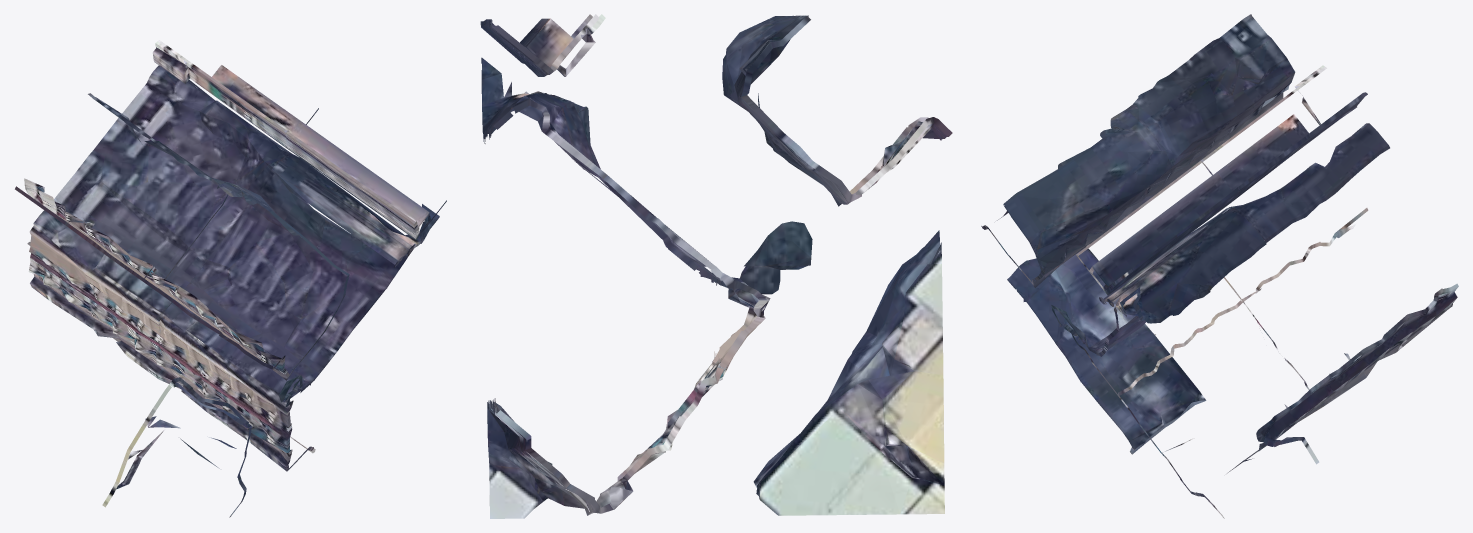
3 views of the same model, side by side, from view 1: azimuth 30°, elevation 25°; view 2: azimuth 150°, elevation 25°; view 3: azimuth 270°, elevation 25° (orthographic). The views are drawn at different scales.
Size of the model in its own units: 49.08 by 50.17 by 54.01.
Materials: 2 (2 with a texture image).
